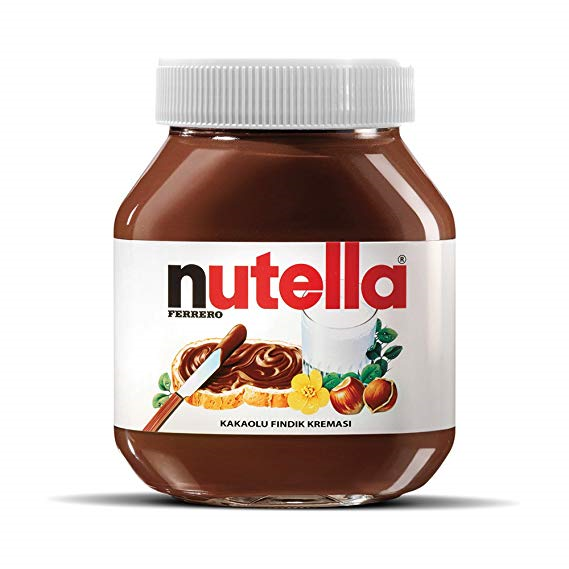nutella: (112, 55, 457, 509)
